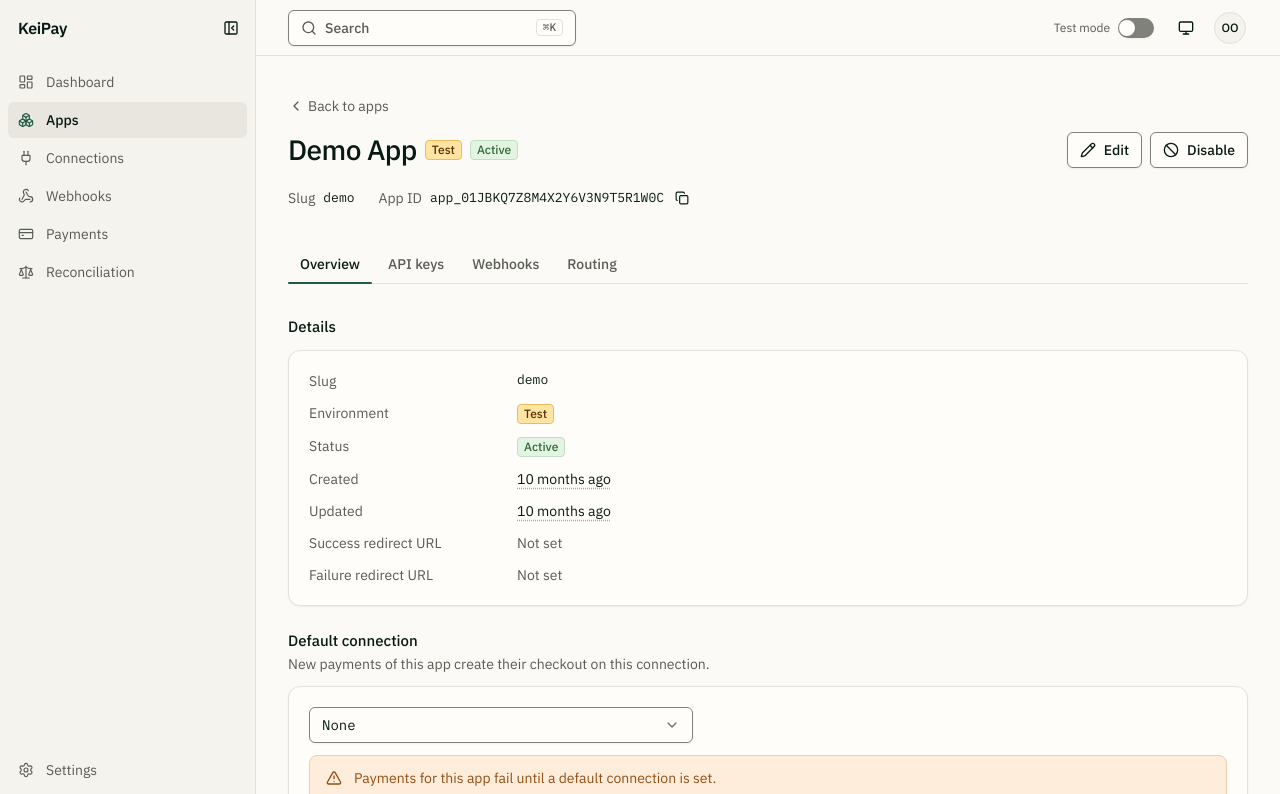
Default connection › shows the environment field error
What coordinates should you click on to do the following:
click the dropdown named "Default connection"
I would click on:
 (339, 725)
Its box is [309,707,693,743].
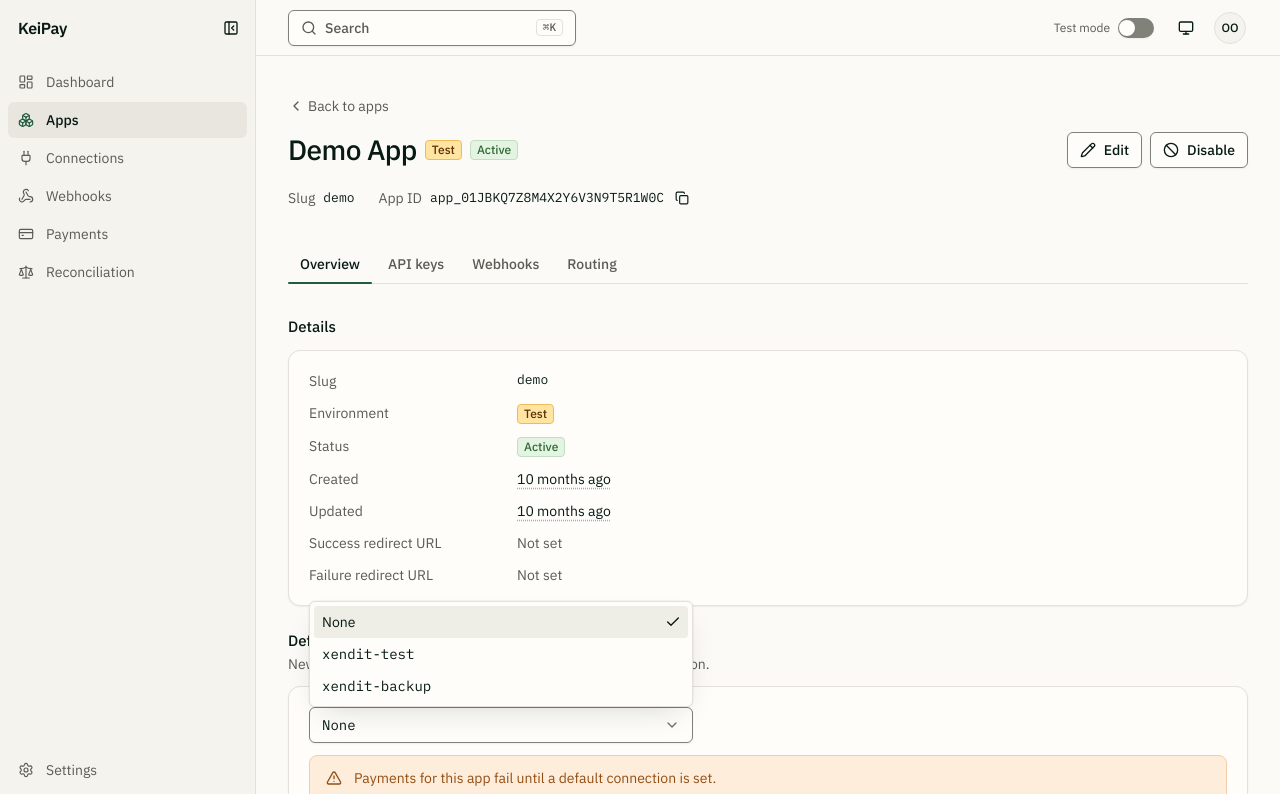
What coordinates should you click on to do the following:
click the option "xendit-backup"
I would click on:
 (377, 686)
Its box is [322,677,431,695].
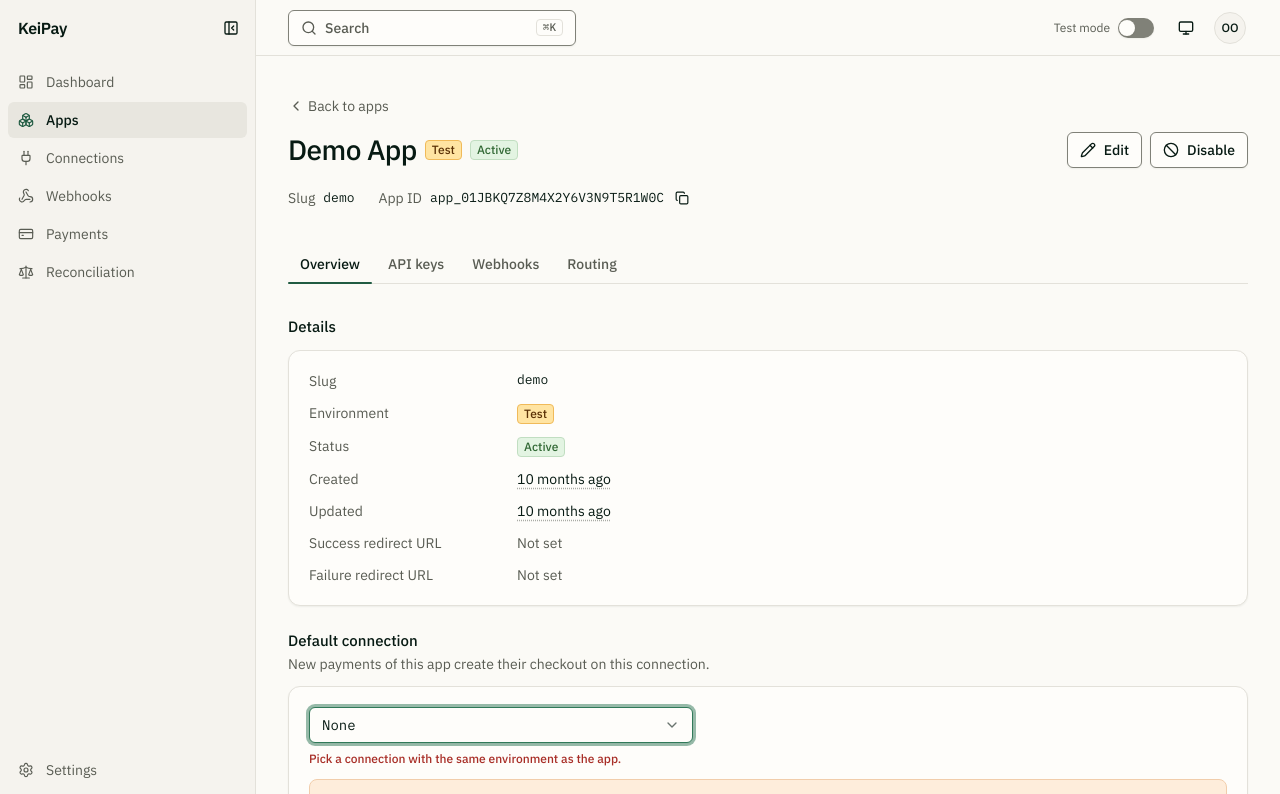
Now the text "Pick a connection with the same environment as the app." is shown, box [309,751,621,766]
